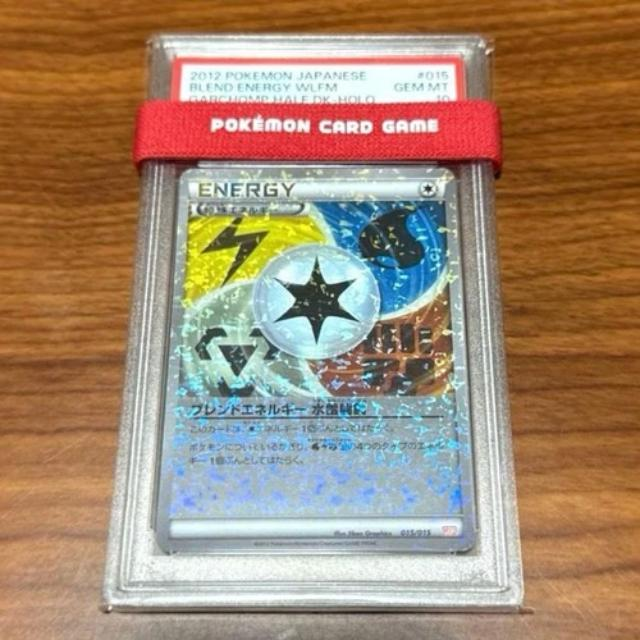Card: (148, 163, 482, 561)
Name: (175, 395, 375, 420)
